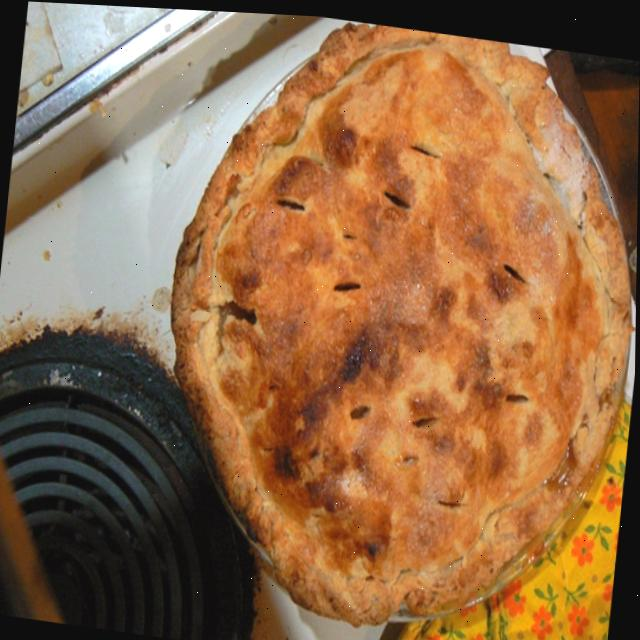炸货点心: (141, 6, 640, 640)
蛋糕甜品: (141, 6, 640, 640)
